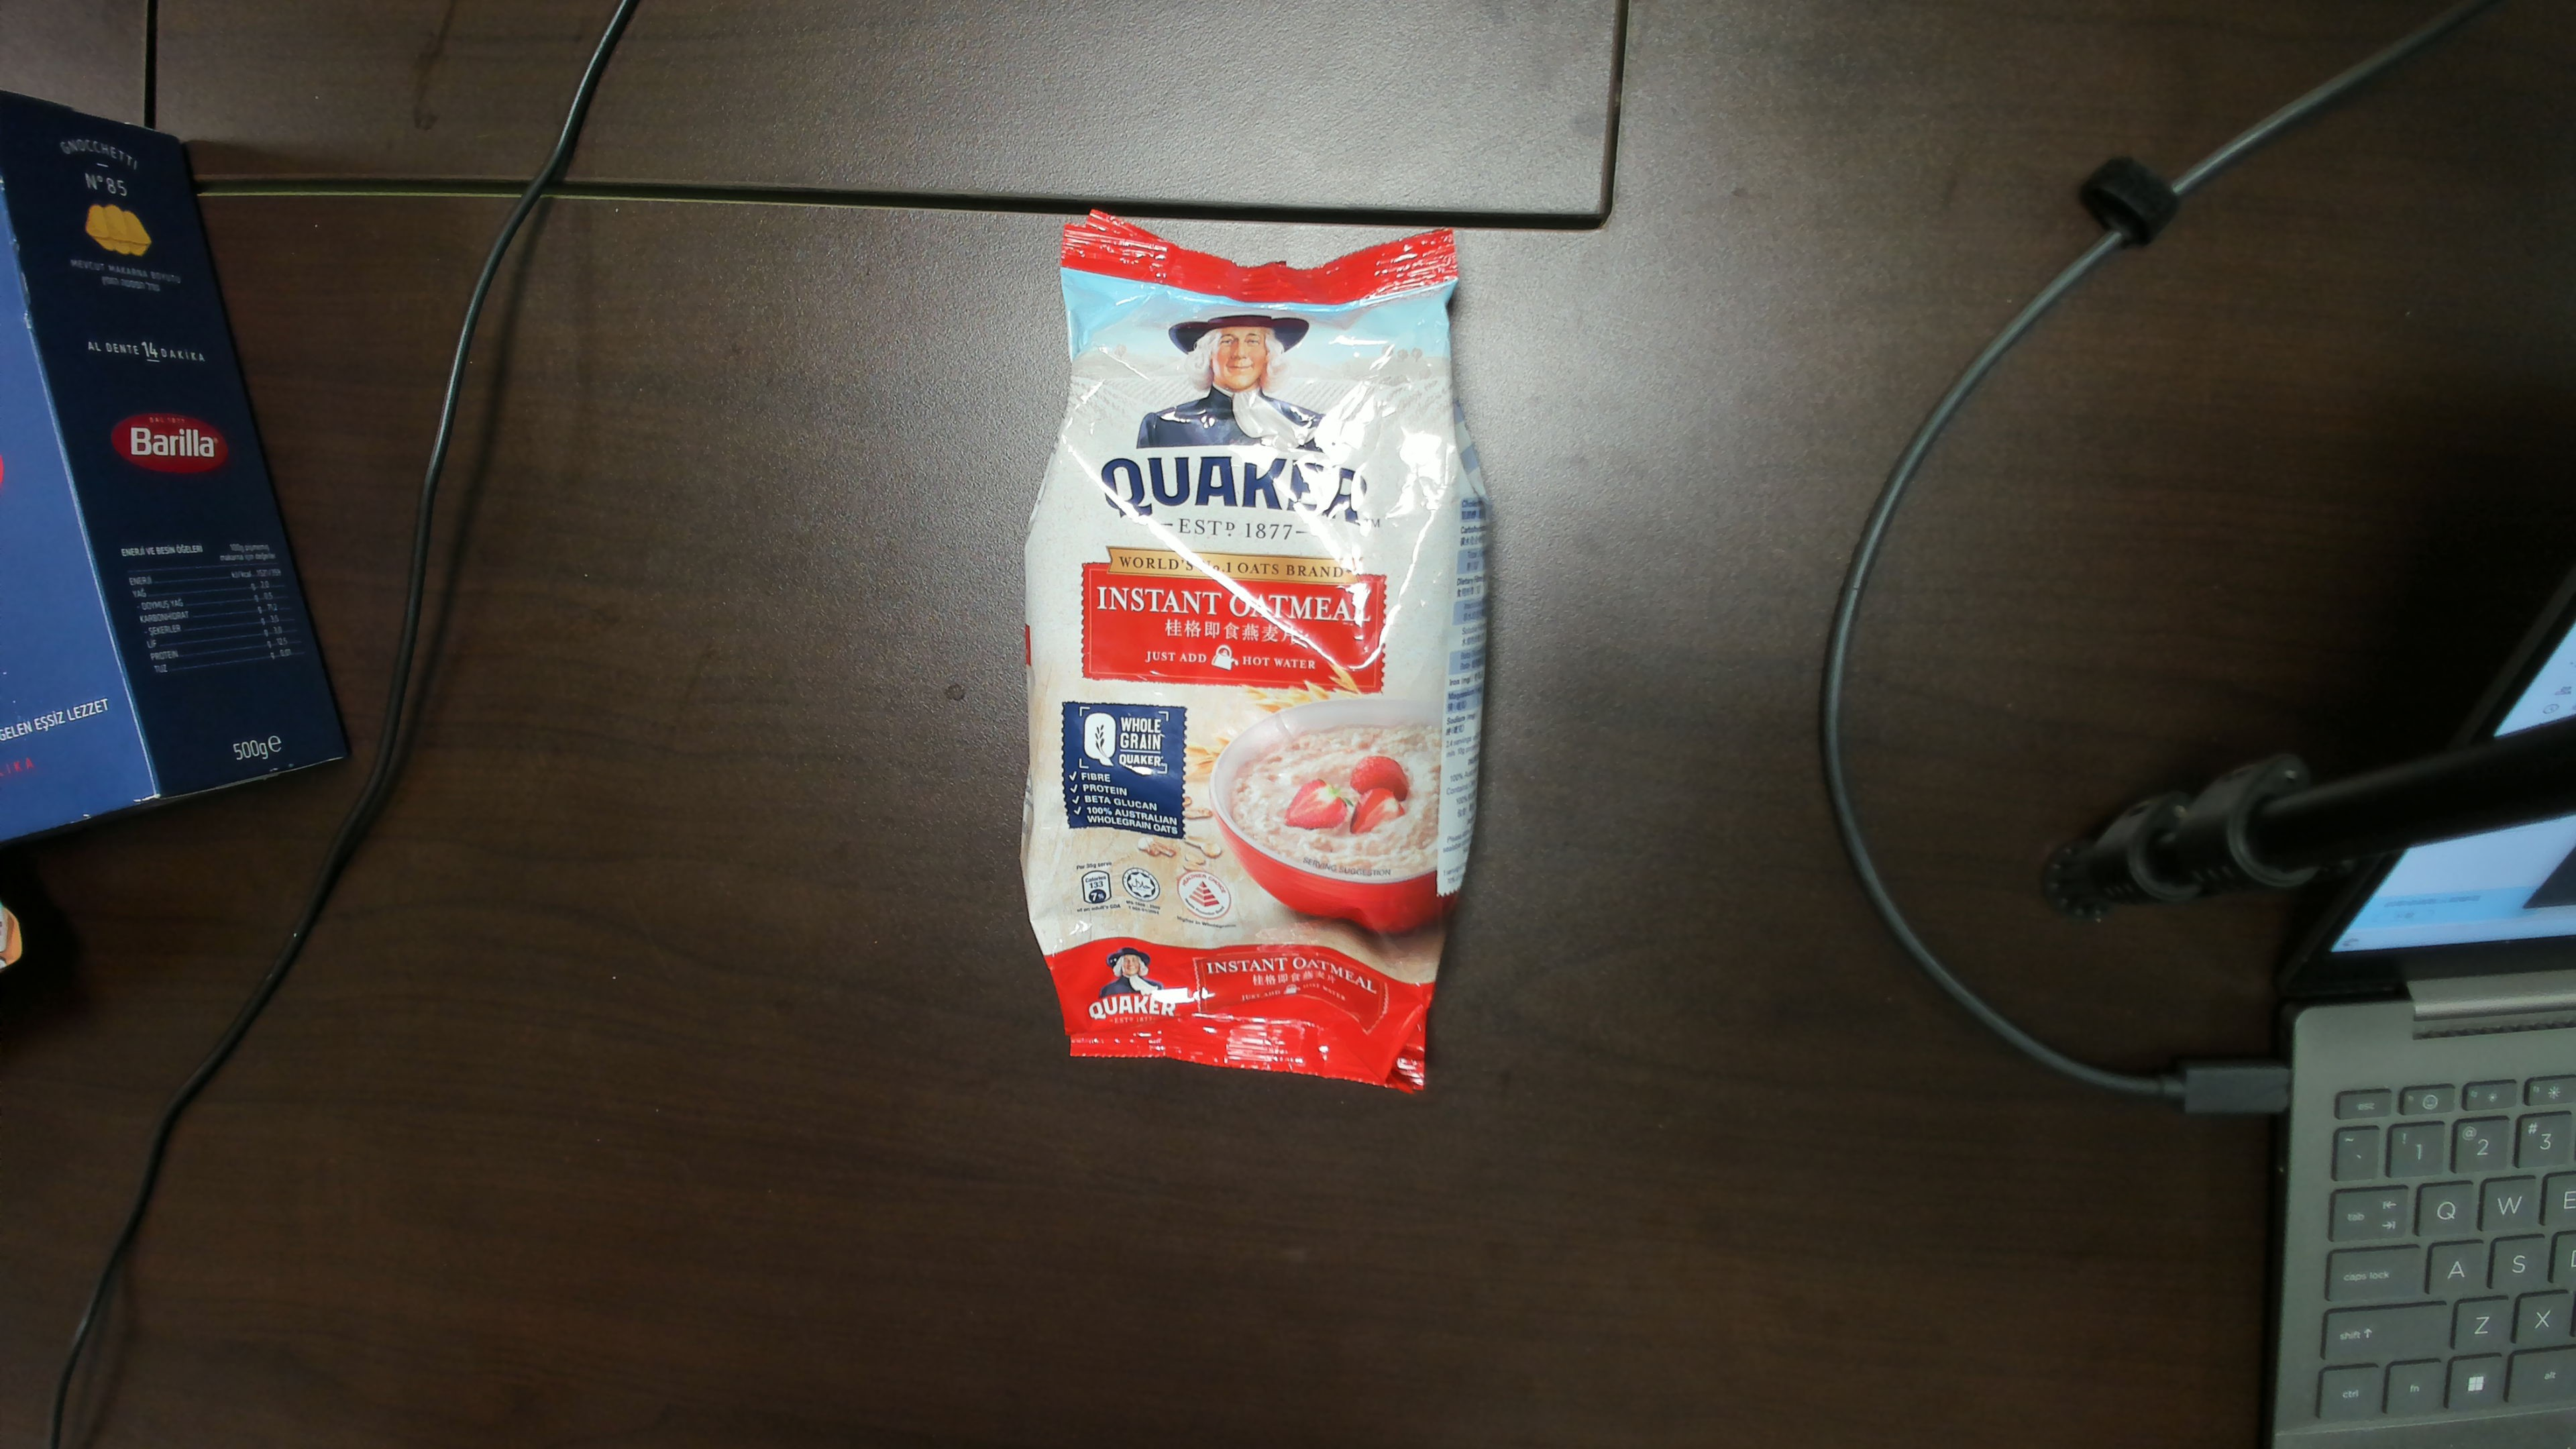RolledOatsInstantOatmeal_400-499g_Halal_Healthy: (1053, 262, 1481, 1060)
